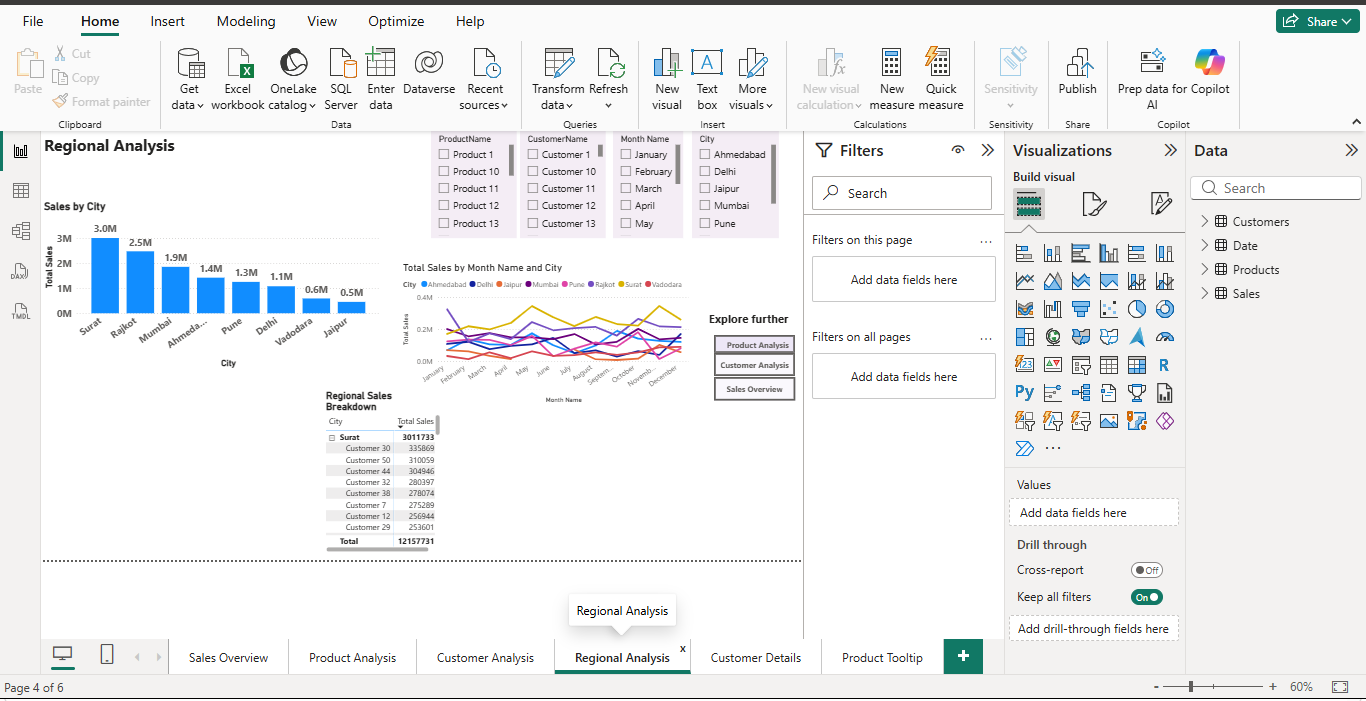

What the dashboard file says about the page in this screenshot:
{"tool":"powerbi","page":{"name":"Regional Analysis","canvas":[1280,720],"ordinal":3},"visuals":[{"type":"clusteredColumnChart","title":"Sales by City","fields":{"Category":["Customers.City"],"Y":["Sales.Total Sales"]},"box":[0,115.9,574.5,287.2],"z":0},{"type":"actionButton","box":[1130.5,343.3,136.1,30.2],"z":1000},{"type":"actionButton","box":[1130.5,373.6,136.1,38.6],"z":2000},{"type":"actionButton","box":[1130.5,413.9,136.6,39.7],"z":3000},{"type":"slicer","fields":{"Values":["Date.Month Name"]},"box":[960.8,0,117.6,179.7],"z":4000},{"type":"slicer","fields":{"Values":["Customers.CustomerName"]},"box":[804.6,0,144.5,179.7],"z":5000},{"type":"textbox","box":[1117.1,298,149.5,43.7],"z":6000},{"type":"pivotTable","title":"Regional Sales Breakdown","fields":{"Rows":["Customers.City","Customers.CustomerName"],"Values":["Sales.Total Sales"]},"box":[473.7,433.4,201.6,278.8],"z":7000},{"type":"slicer","fields":{"Values":["Products.ProductName"]},"box":[655.1,0,144.5,179.7],"z":8000},{"type":"textbox","box":[0,0,230.1,55.4],"z":9000},{"type":"lineChart","fields":{"Category":["Date.Month Name"],"Y":["Sales.Total Sales"],"Series":["Customers.City"]},"box":[603,218.4,490.5,243.6],"z":10000},{"type":"slicer","fields":{"Values":["Customers.City"]},"box":[1093.5,0,146.1,179.7],"z":11000}]}

Visuals, with their boxes on the page's 1280x720 design canvas (x1, y1, x2, y2). These are canvas units, not pixel positions in the 1366x701 screenshot, which may show the page scaled, cropped or inside an application window:
"Sales by City" clusteredColumnChart: box(0, 116, 574, 403)
actionButton: box(1130, 343, 1267, 374)
actionButton: box(1130, 374, 1267, 412)
actionButton: box(1130, 414, 1267, 454)
slicer - Date.Month Name: box(961, 0, 1078, 180)
slicer - Customers.CustomerName: box(805, 0, 949, 180)
textbox: box(1117, 298, 1267, 342)
"Regional Sales Breakdown" pivotTable: box(474, 433, 675, 712)
slicer - Products.ProductName: box(655, 0, 800, 180)
textbox: box(0, 0, 230, 55)
lineChart - Date.Month Name x Sales.Total Sales: box(603, 218, 1094, 462)
slicer - Customers.City: box(1094, 0, 1240, 180)
